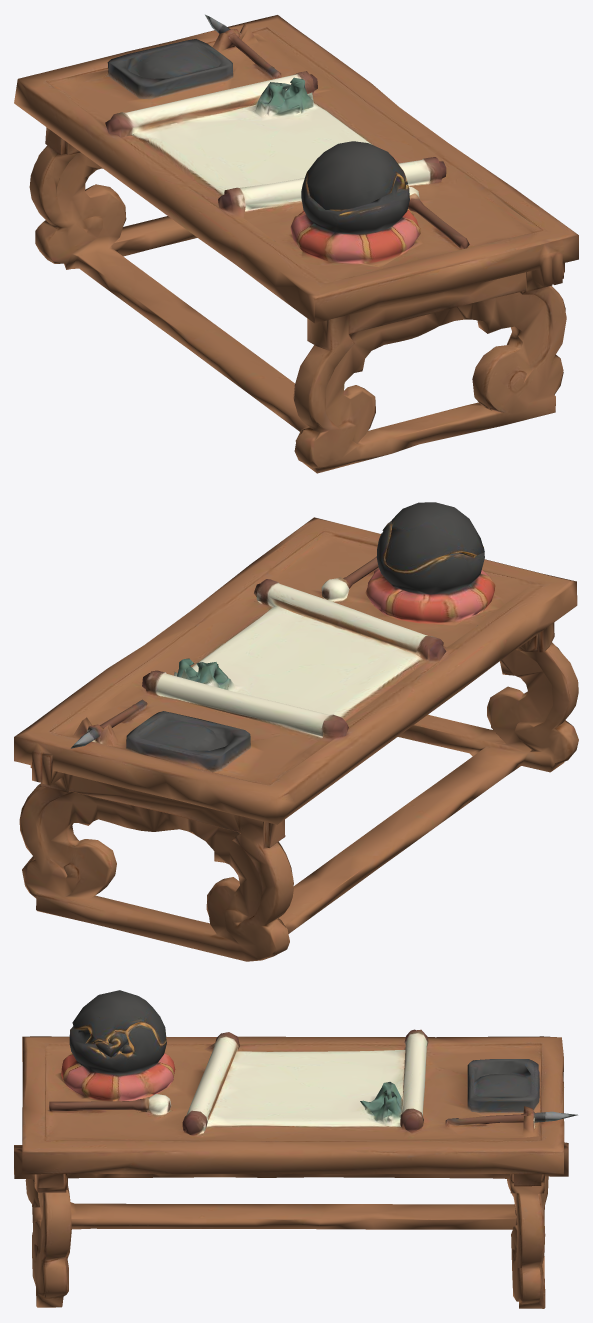
File: desk_fish.glb
3 renders of one model, top to bottom at view 1: azimuth 30°, elevation 25°; view 2: azimuth 150°, elevation 25°; view 3: azimuth 270°, elevation 25°, orthographic. The views are drawn at different scales.
Parts seen in each view (by area): view 1: kusuriuri; view 2: kusuriuri; view 3: kusuriuri.
Boxes of the visible parts, <box> form: kusuriuri: <box>14,14,578,473</box>; kusuriuri: <box>14,502,578,961</box>; kusuriuri: <box>14,990,577,1308</box>.
Size of the model in its own units: 0.4883 by 0.45 by 0.9442.
1 material, 1 textured.
